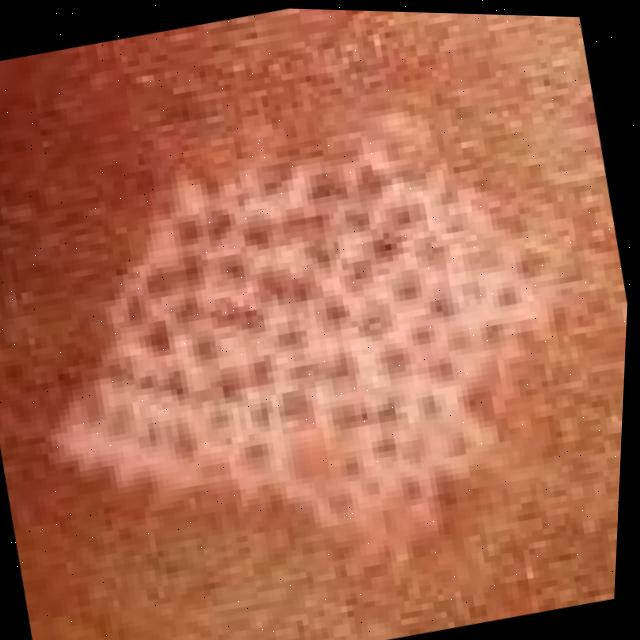Melasma: (58, 128, 542, 520)
